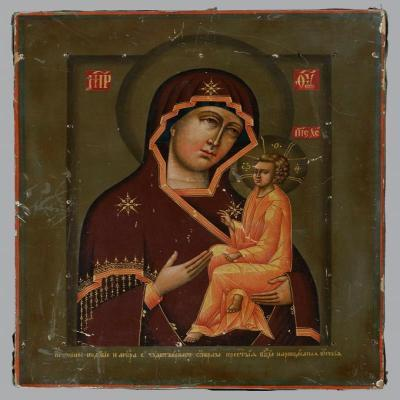painting: (12, 10, 388, 394)
